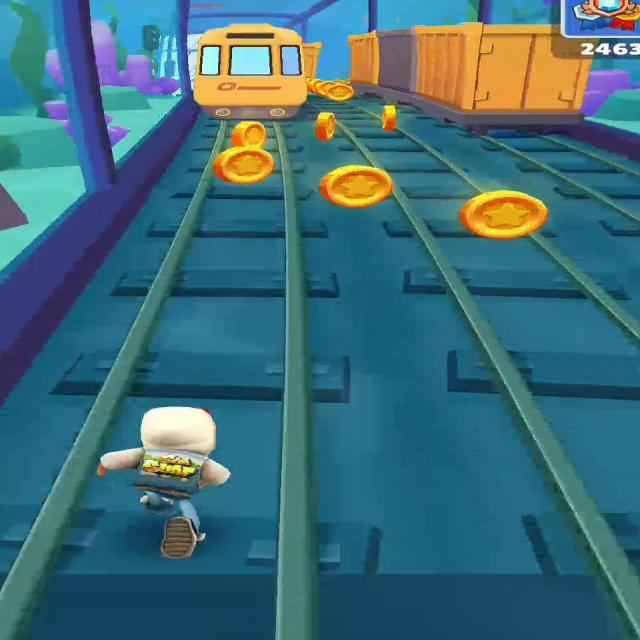train: (413, 23, 591, 124), (193, 24, 307, 120), (415, 23, 483, 111), (377, 26, 417, 92), (349, 31, 379, 85), (303, 42, 321, 79)
